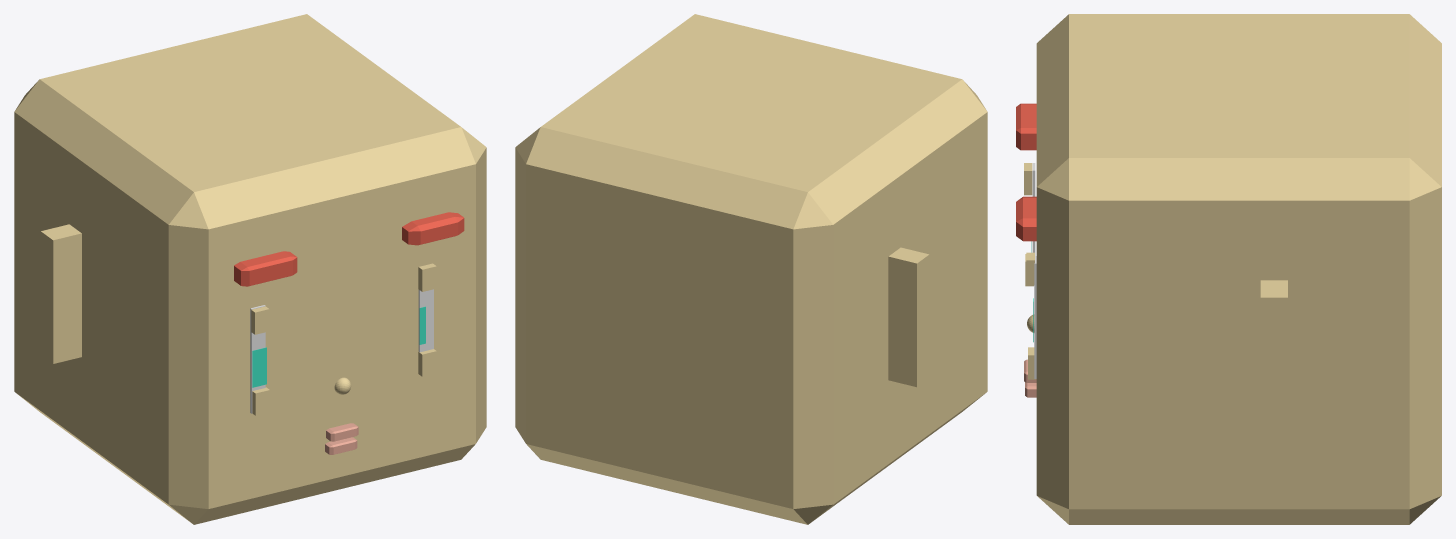
Rendered from roblox.glb.
3 renders of one model, left to right at view 1: azimuth 30°, elevation 25°; view 2: azimuth 150°, elevation 25°; view 3: azimuth 270°, elevation 25°, orthographic. The views are drawn at different scales.
Parts seen in each view (by area): view 1: head; view 2: head; view 3: head.
Part boxes in pixels (x1,y1,x2,y2): head: (14, 14, 486, 524); head: (515, 14, 987, 524); head: (1016, 14, 1441, 524).
Bounding box in the file's own units: 0.9537 × 0.8 × 0.8408.
